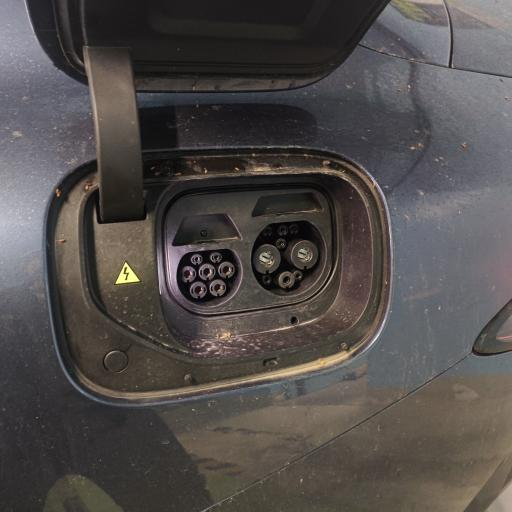AC_charging_hole: (174, 246, 243, 310)
DC_charging_port: (250, 217, 329, 301)
DC_hole: (253, 243, 283, 277), (292, 239, 320, 271)
PE: (277, 269, 296, 291)
